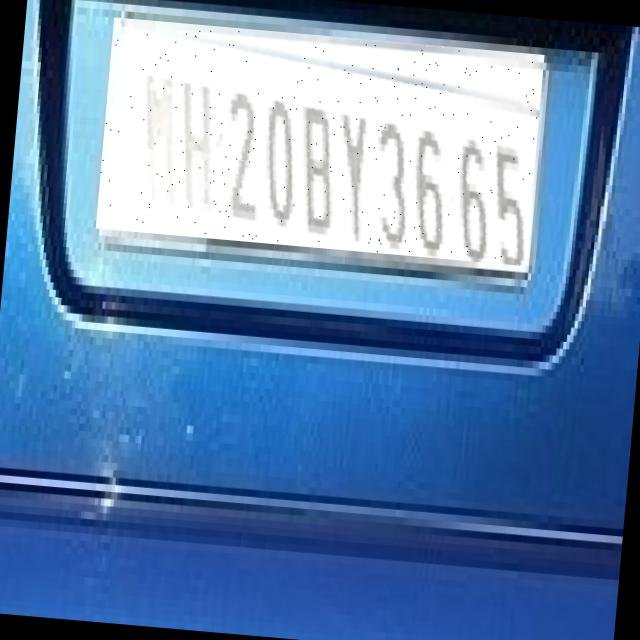Plate: (96, 18, 545, 267)
